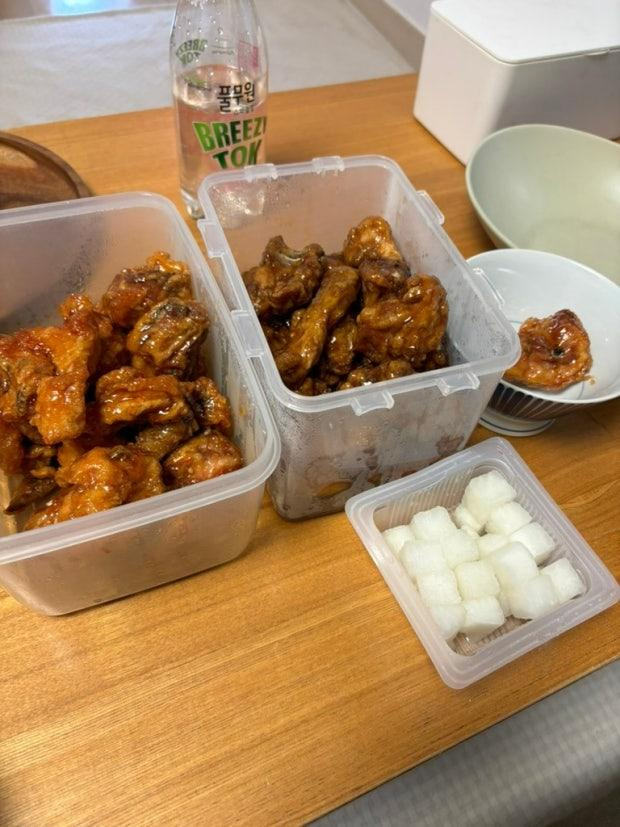Bottle: (169, 0, 268, 226)
Lunch Box: (0, 193, 278, 615), (199, 155, 518, 519)
